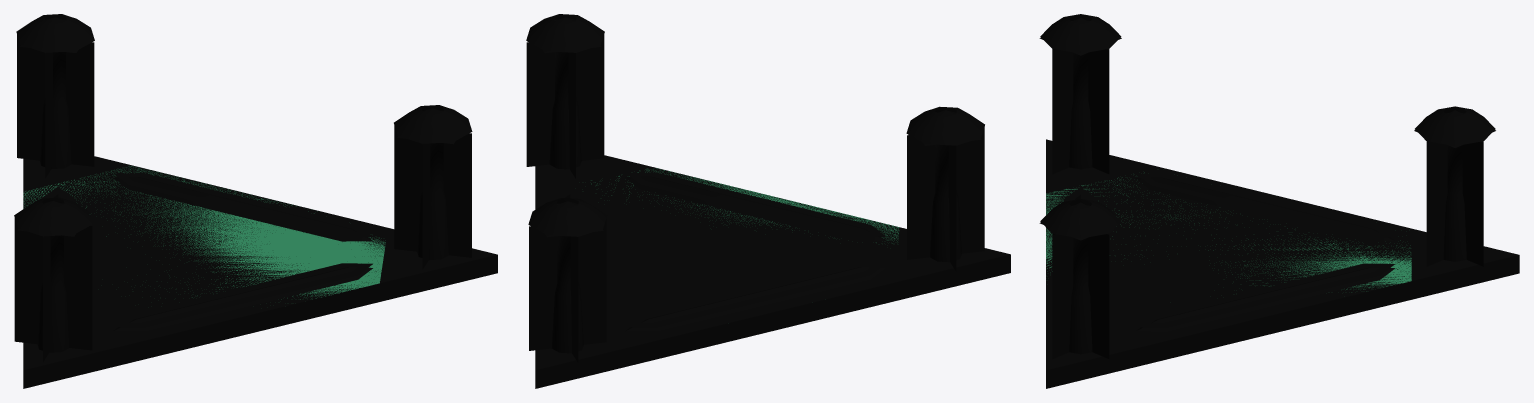
The model's file is tr_triangle.max.fobj.obj.
3 renders of one model, left to right at view 1: azimuth 30°, elevation 25°; view 2: azimuth 150°, elevation 25°; view 3: azimuth 270°, elevation 25°, orthographic.
Parts seen in each view (by area): view 1: TR_triangle, TR_triangle_LOD, TR_triangle_col; view 2: TR_triangle, TR_triangle_LOD, TR_triangle_col; view 3: TR_triangle_LOD, TR_triangle, TR_triangle_col.
Boxes of the visible parts, x1,y1,x2,y2 form: TR_triangle: [14, 14, 497, 388]; TR_triangle_LOD: [14, 17, 495, 361]; TR_triangle_col: [23, 166, 385, 299]; TR_triangle: [526, 14, 1009, 369]; TR_triangle_LOD: [526, 17, 1010, 388]; TR_triangle_col: [591, 168, 899, 243]; TR_triangle_LOD: [1039, 17, 1519, 388]; TR_triangle: [1040, 14, 1515, 369]; TR_triangle_col: [1046, 172, 1411, 292].
Size of the model in its own units: 800 by 264 by 703.
